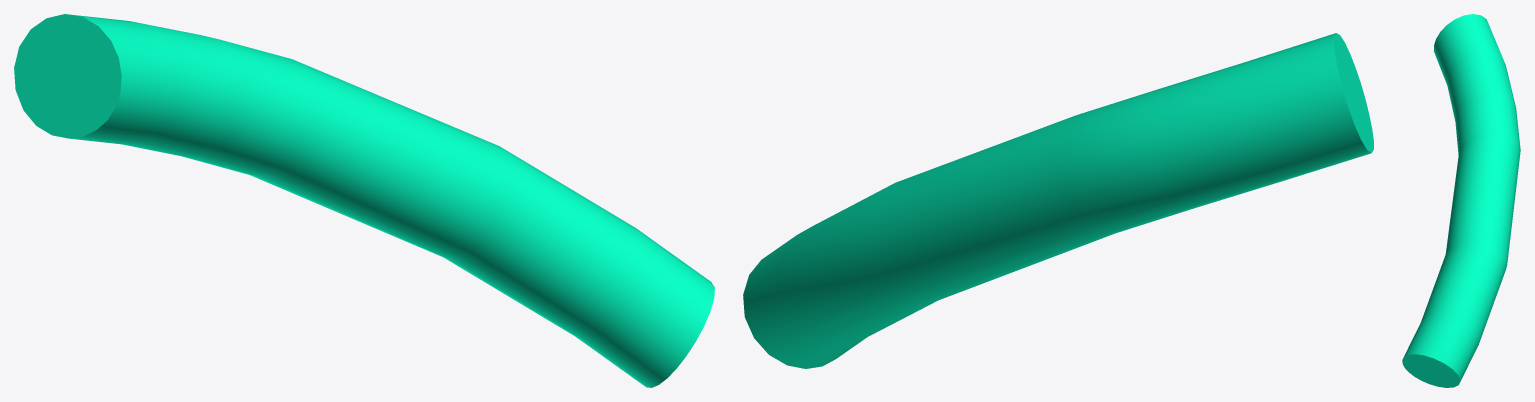
Rendered from lacZ.glb.
3 views of the same model, side by side, from view 1: azimuth 30°, elevation 25°; view 2: azimuth 150°, elevation 25°; view 3: azimuth 270°, elevation 25° (orthographic). The views are drawn at different scales.
Visible parts, largest first — view 1: lacZ; view 2: lacZ; view 3: lacZ.
Part boxes in pixels (x1,y1,x2,y2): lacZ: (14,14,714,387); lacZ: (743,33,1373,368); lacZ: (1402,14,1520,387).
Bounding box in the file's own units: 0.5642 × 0.3967 × 0.1773.
